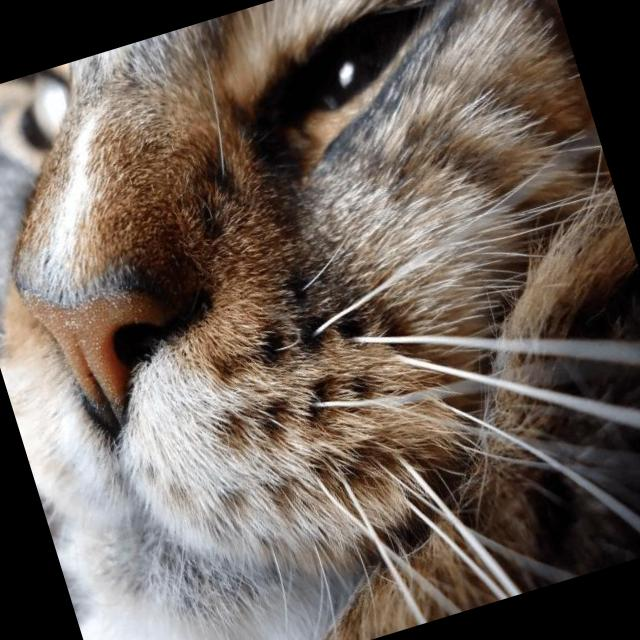Healthy skin: (413, 26, 555, 167), (68, 54, 188, 192), (322, 127, 413, 228), (212, 200, 298, 302), (144, 380, 226, 480)
